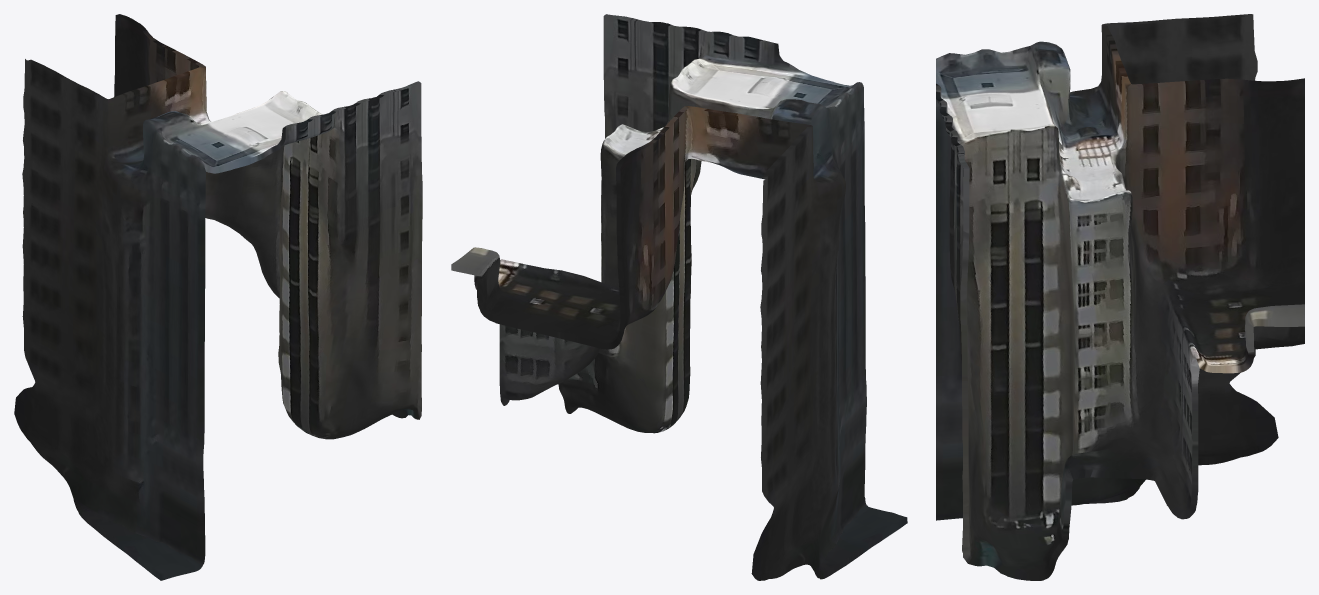
File: z20-167771-405235-h0-yup-uvflip-v3-world.glb
The picture shows the model from 3 angles, left to right: view 1: azimuth 30°, elevation 25°; view 2: azimuth 150°, elevation 25°; view 3: azimuth 270°, elevation 25°; orthographic projection. The views are drawn at different scales.
Bounding box in the file's own units: 30.2 × 44.76 × 30.32.
Materials: 1 (1 with a texture image).
